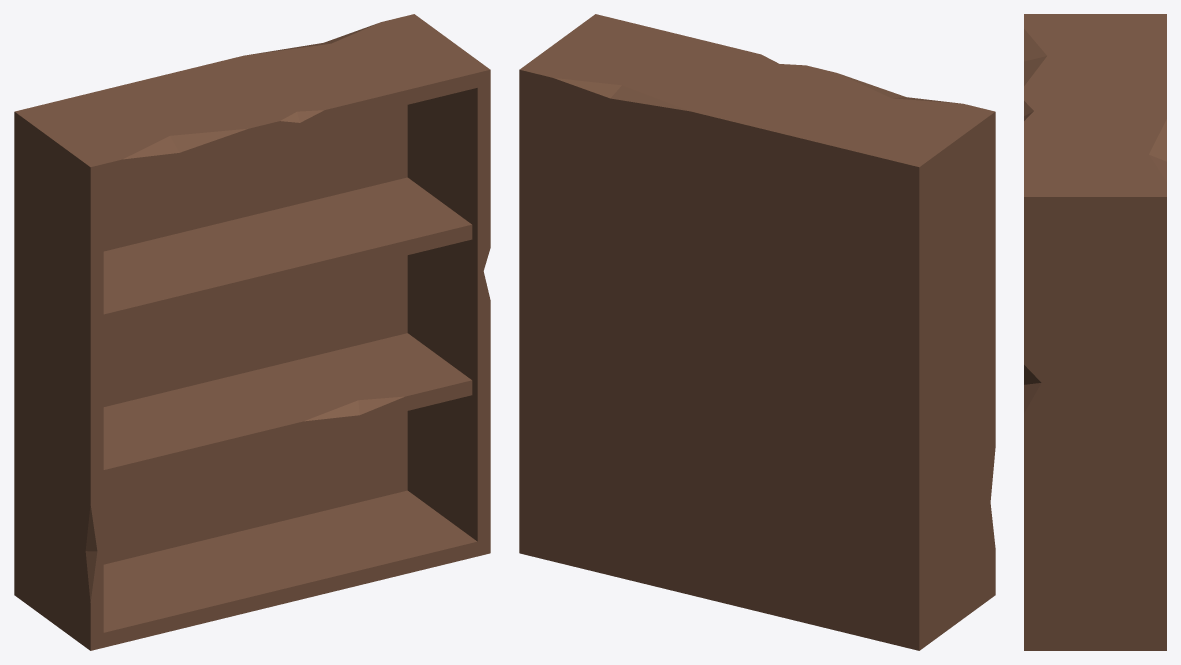
Rendered from SM_Prop_Bookshelf_02.fbx.
3 views of the same model, side by side, from view 1: azimuth 30°, elevation 25°; view 2: azimuth 150°, elevation 25°; view 3: azimuth 270°, elevation 25° (orthographic). The views are drawn at different scales.
Parts seen in each view (by area): view 1: SM_Prop_Bookshelf_02; view 2: SM_Prop_Bookshelf_02; view 3: SM_Prop_Bookshelf_02.
Boxes of the visible parts, x1=… form: SM_Prop_Bookshelf_02: x1=14, y1=14, x2=490, y2=650; SM_Prop_Bookshelf_02: x1=519, y1=14, x2=995, y2=650; SM_Prop_Bookshelf_02: x1=1024, y1=14, x2=1166, y2=650.
Bounding box in the file's own units: 88.78 × 103 × 29.25.
